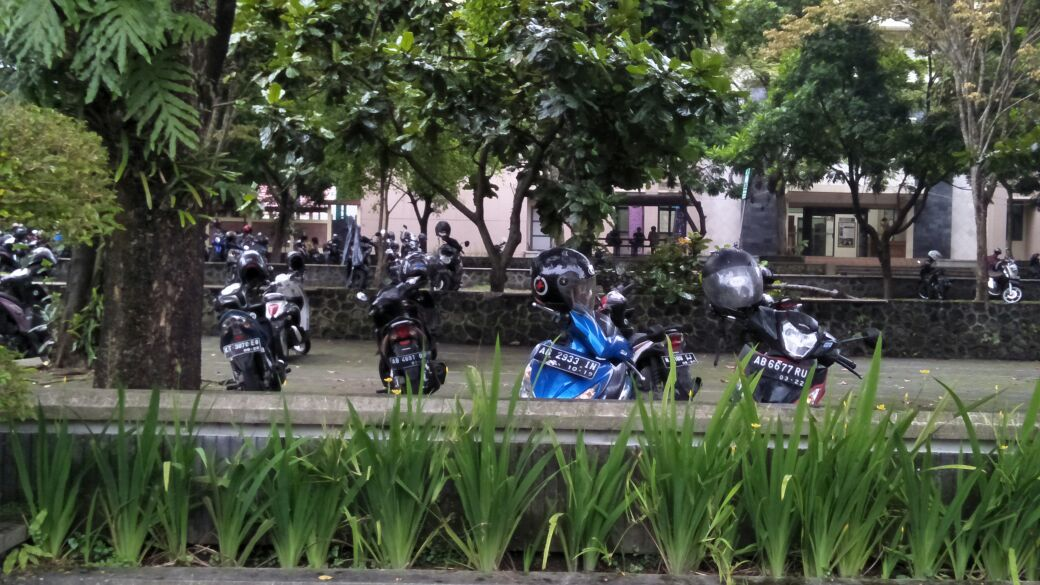plate: (750, 352, 816, 391), (536, 344, 599, 381), (220, 338, 263, 358)
